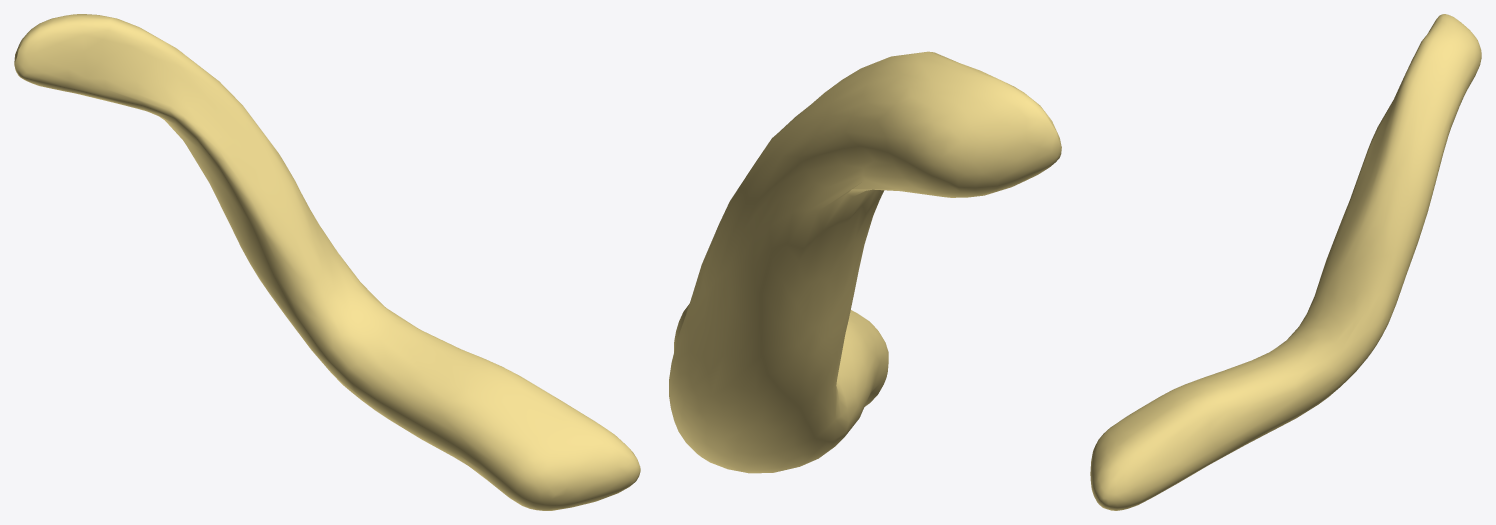
The model's file is fma77627-l_mm3011.glb.
3 renders of one model, left to right at view 1: azimuth 30°, elevation 25°; view 2: azimuth 150°, elevation 25°; view 3: azimuth 270°, elevation 25°, orthographic. The views are drawn at different scales.
Visible parts, largest first — view 1: FMA77627-L_MM3011; view 2: FMA77627-L_MM3011; view 3: FMA77627-L_MM3011.
Boxes of the visible parts, bbox=[...] form: FMA77627-L_MM3011: bbox=[14, 14, 640, 510]; FMA77627-L_MM3011: bbox=[669, 51, 1061, 473]; FMA77627-L_MM3011: bbox=[1090, 14, 1481, 510].
Bounding box in the file's own units: 0.00949 × 0.00893 × 0.00908.
